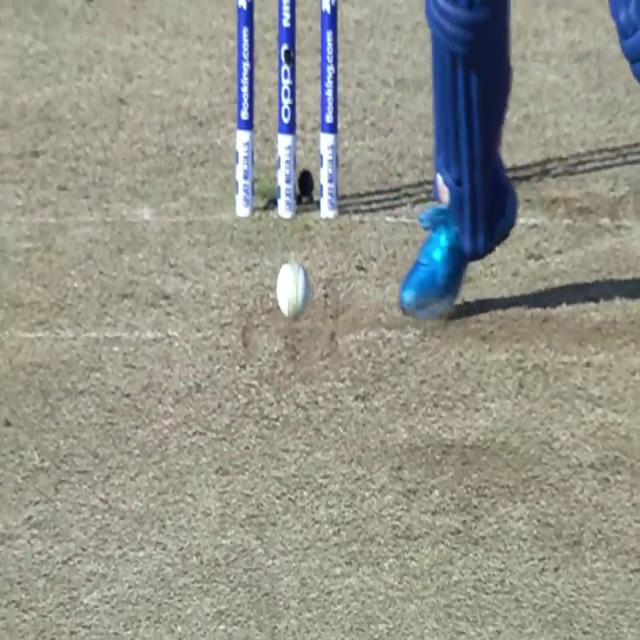ball: (277, 262, 311, 324)
